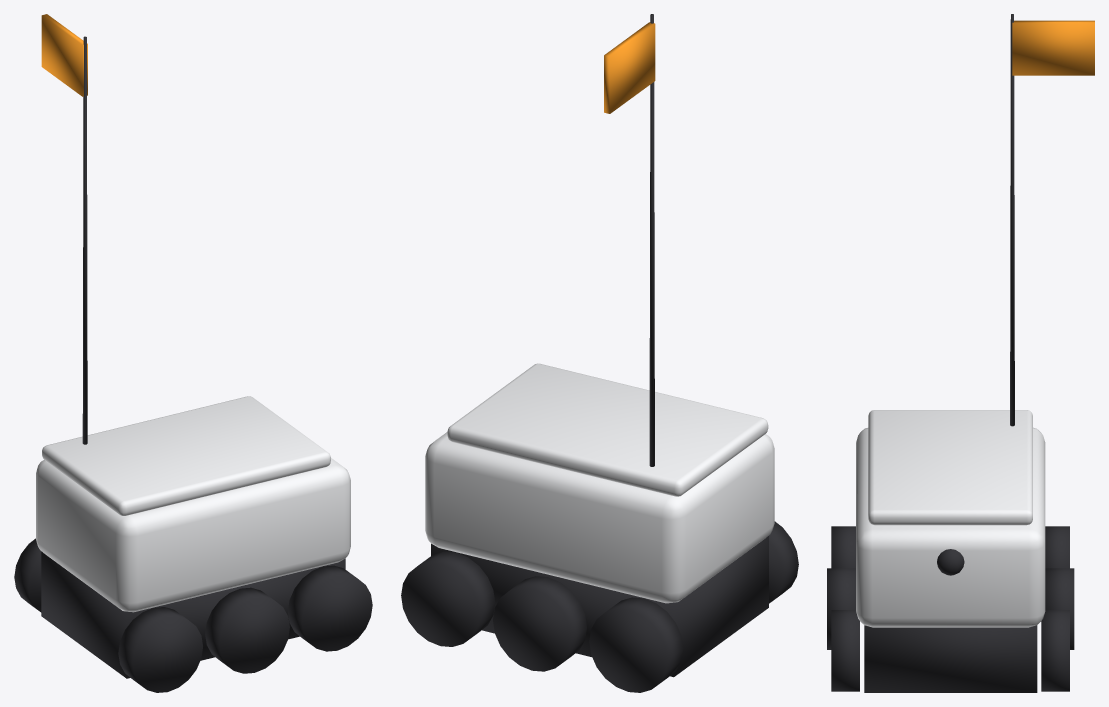
File: rover.glb
3 views of the same model, side by side, from view 1: azimuth 30°, elevation 25°; view 2: azimuth 150°, elevation 25°; view 3: azimuth 270°, elevation 25° (orthographic). The views are drawn at different scales.
Visible parts, largest first — view 1: rover:shell, rover:lid, rover:chassis, rover:wheel4, rover:wheel5, rover:wheel3, rover:flag, rover:antenna, rover:wheel2; view 2: rover:shell, rover:lid, rover:chassis, rover:wheel0, rover:wheel1, rover:wheel2, rover:flag, rover:antenna, rover:wheel5; view 3: rover:shell, rover:lid, rover:chassis, rover:flag, rover:wheel3, rover:wheel0, rover:antenna, rover:wheel1, rover:wheel4, rover:wheel2, rover:wheel5, rover:cam_front.
Part boxes in pixels (x1,y1,x2,y2): rover:shell: [36, 458, 350, 612]; rover:lid: [42, 396, 330, 515]; rover:chassis: [41, 551, 345, 678]; rover:wheel4: [205, 587, 289, 673]; rover:wheel5: [118, 607, 202, 692]; rover:wheel3: [288, 565, 372, 651]; rover:flag: [41, 14, 87, 96]; rover:antenna: [82, 36, 87, 444]; rover:wheel2: [14, 538, 41, 612]; rover:shell: [425, 432, 774, 603]; rover:lid: [447, 363, 768, 496]; rover:chassis: [431, 536, 768, 677]; rover:wheel0: [401, 551, 495, 646]; rover:wheel1: [493, 576, 586, 671]; rover:wheel2: [589, 597, 683, 692]; rover:flag: [604, 22, 655, 113]; rover:antenna: [649, 14, 654, 466]; rover:wheel5: [769, 521, 798, 603]; rover:shell: [856, 427, 1045, 627]; rover:lid: [868, 410, 1032, 525]; rover:chassis: [864, 625, 1037, 692]; rover:flag: [1012, 20, 1094, 75]; rover:wheel3: [831, 610, 859, 691]; rover:wheel0: [1041, 610, 1069, 691]; rover:antenna: [1010, 14, 1014, 426]; rover:wheel1: [1045, 568, 1074, 649]; rover:wheel4: [827, 568, 855, 649]; rover:wheel2: [1045, 526, 1069, 568]; rover:wheel5: [831, 526, 855, 568]; rover:cam_front: [937, 549, 964, 575].
Size of the model in its own units: 0.7 by 1.59 by 0.65.
